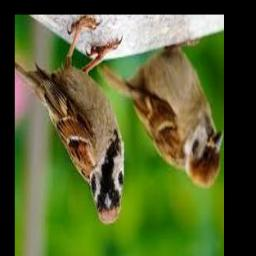Sparrow: (15, 17, 124, 225), (98, 39, 222, 188)
